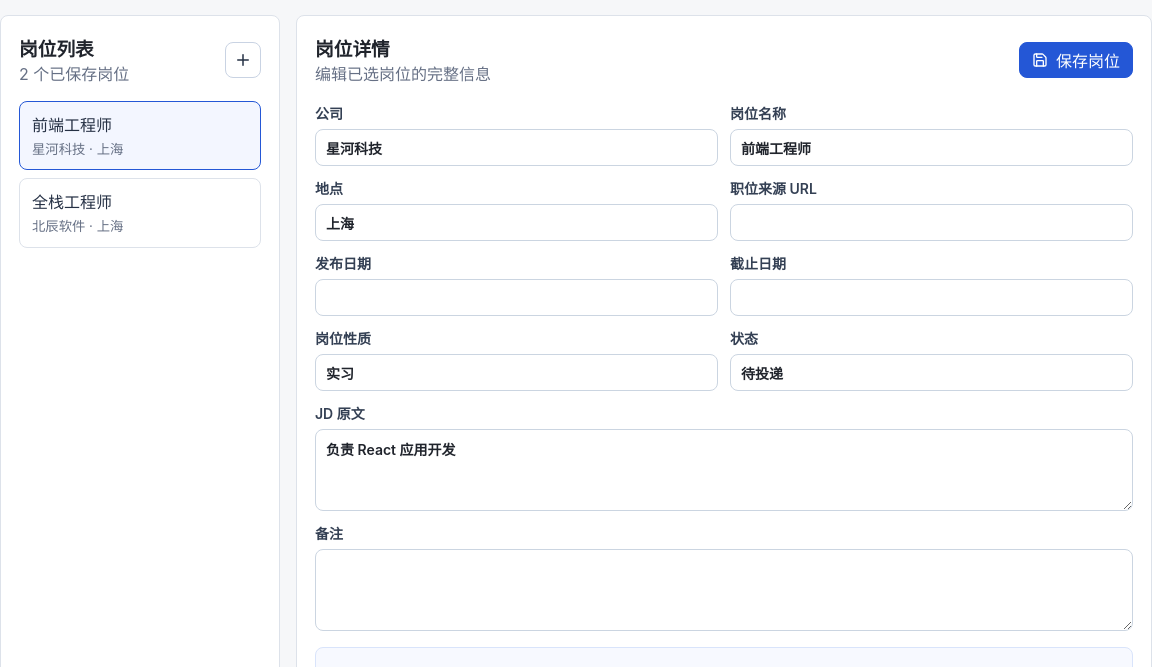
Test: JobsPage › defaults to the job's current analysis and falls back to the latest history
Click the button "全栈工程师 北辰软件 · 上海".
click(140, 213)  # box [19, 178, 261, 248]
(page scrolled)
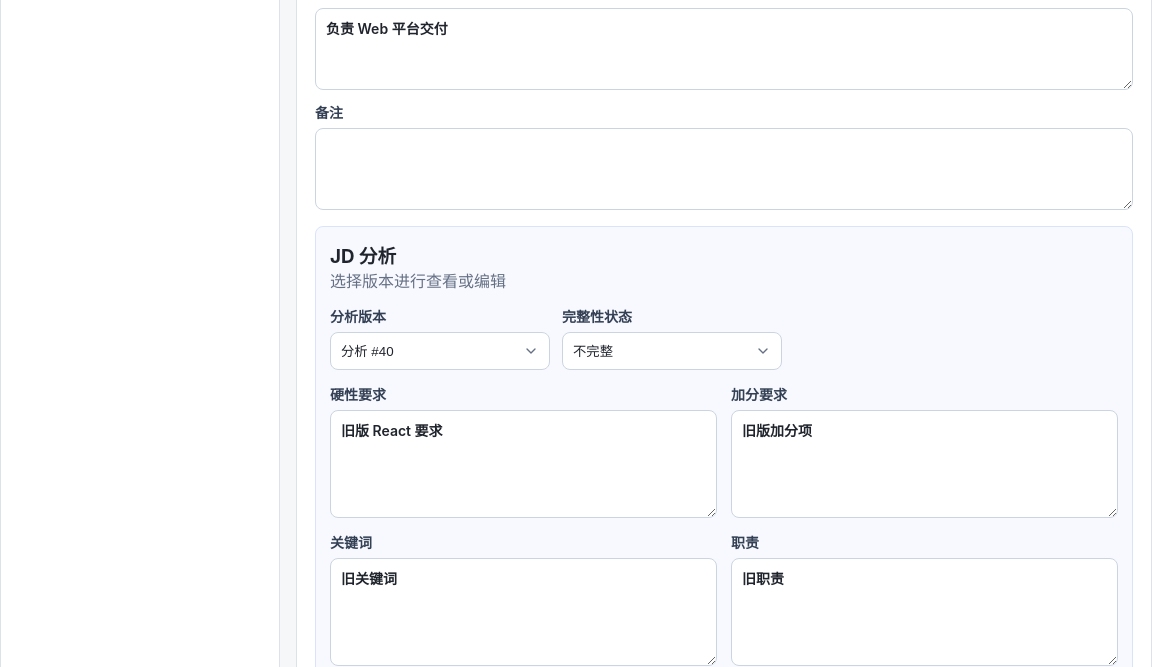
Expected: the dropdown labelled "分析版本" shows "分析 #40", [330, 332, 550, 370]
